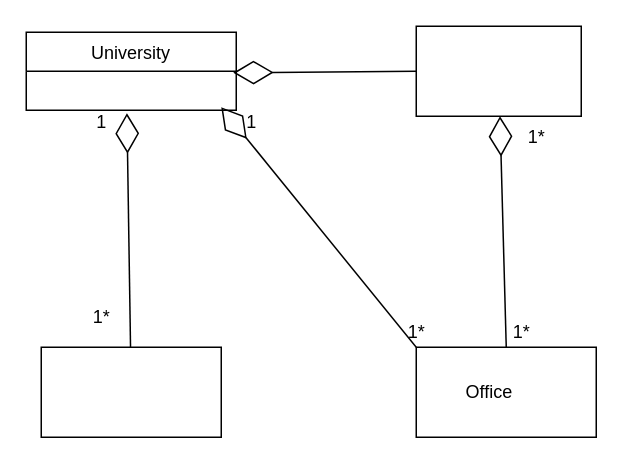
The diagram is 623 pixels wide and 464 high, and some of its shapes have lost their labels. Here are the shapes that lost their labels. From the top down, the box of each, then its label:
(415, 25, 581, 116): Department
(40, 346, 221, 437): Class
